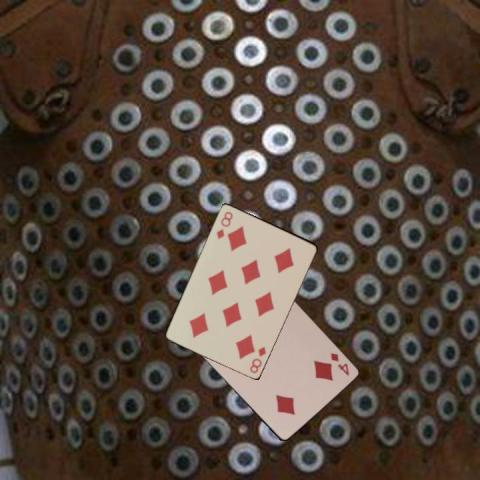4d: (327, 350, 350, 377)
8d: (213, 208, 234, 240), (247, 342, 267, 374)
